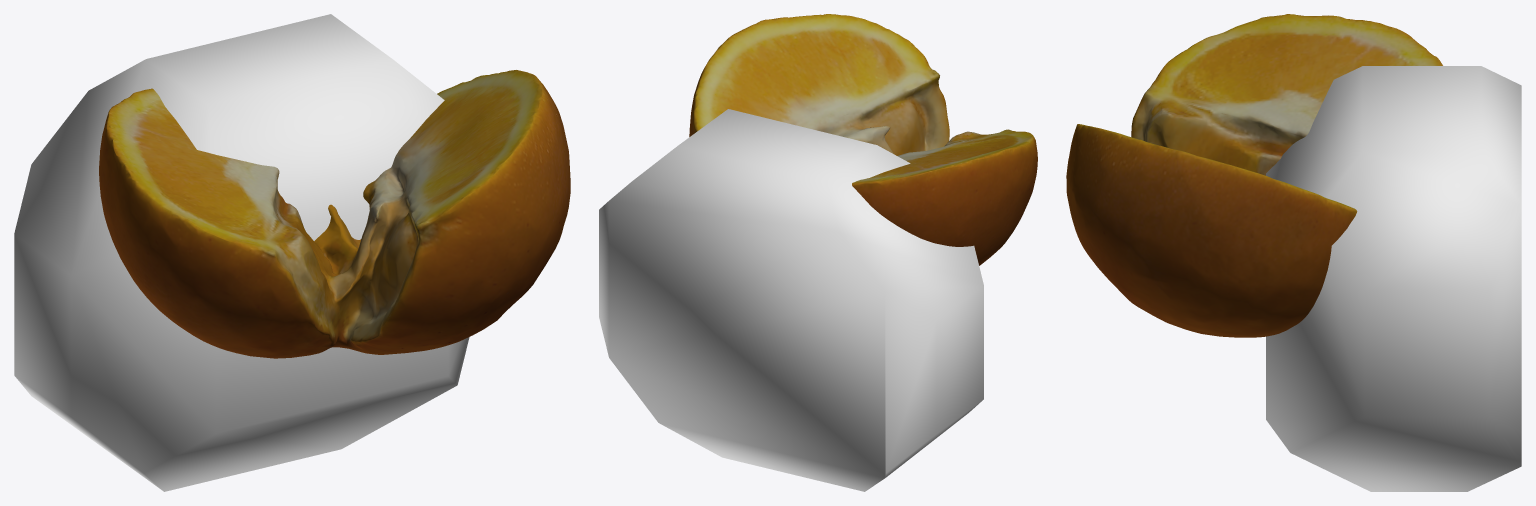
The model's file is SM_Orange_A_Food.fbx.
3 renders of one model, left to right at view 1: azimuth 30°, elevation 25°; view 2: azimuth 150°, elevation 25°; view 3: azimuth 270°, elevation 25°, orthographic. The views are drawn at different scales.
Parts seen in each view (by area): view 1: SM_Orange_A_Food_ConvexHulls, SM_Orange_A_Food; view 2: SM_Orange_A_Food_ConvexHulls, SM_Orange_A_Food; view 3: SM_Orange_A_Food_ConvexHulls, SM_Orange_A_Food.
Boxes of the visible parts, x1=… form: SM_Orange_A_Food_ConvexHulls: x1=14, y1=14, x2=469, y2=491; SM_Orange_A_Food: x1=99, y1=70, x2=570, y2=358; SM_Orange_A_Food_ConvexHulls: x1=599, y1=109, x2=983, y2=491; SM_Orange_A_Food: x1=689, y1=14, x2=1037, y2=265; SM_Orange_A_Food_ConvexHulls: x1=1266, y1=66, x2=1521, y2=491; SM_Orange_A_Food: x1=1066, y1=14, x2=1442, y2=337.
Size of the model in its own units: 0.1083 by 0.1019 by 0.1085.
